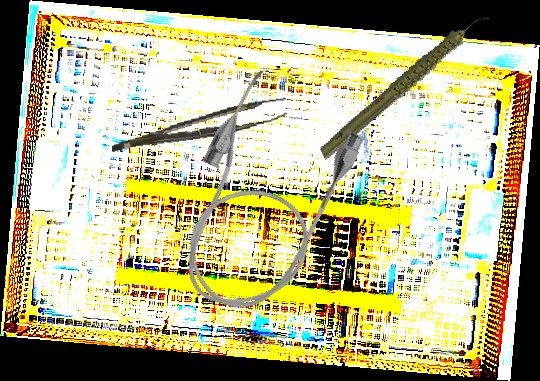Cannula: (150, 64, 373, 332)
Handpiece: (298, 11, 514, 162)
Tissue Forceps: (108, 97, 290, 152)
